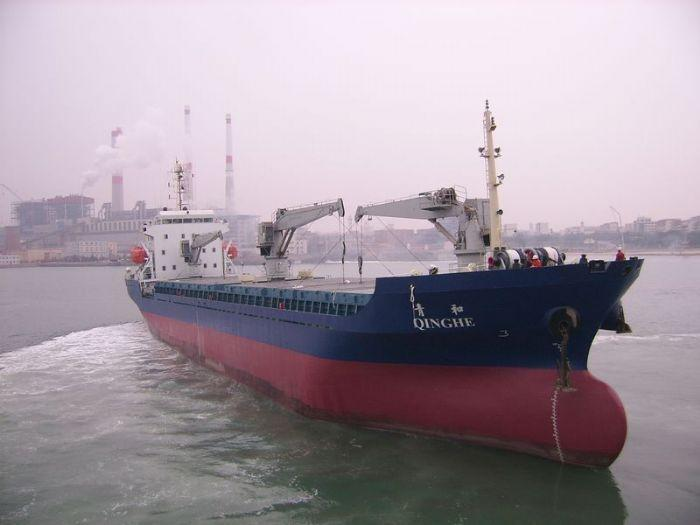Cargoship: (120, 93, 651, 476)
